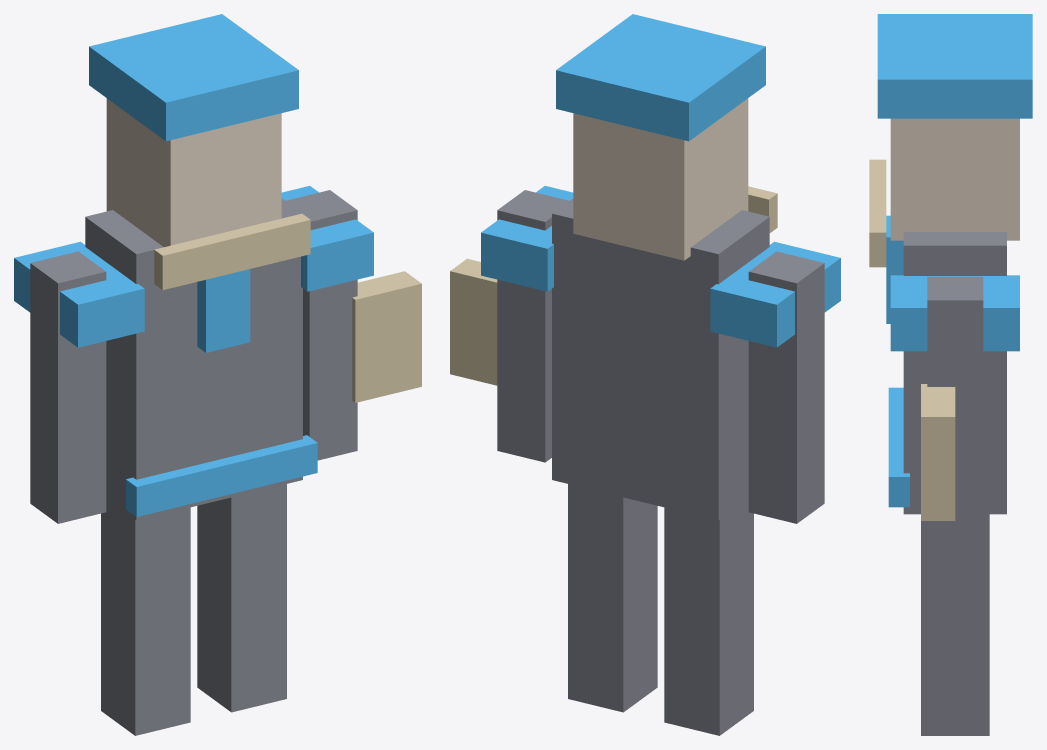
Rendered from 09_kael_glassroot_engineer_at_emergency.glb.
3 renders of one model, left to right at view 1: azimuth 30°, elevation 25°; view 2: azimuth 150°, elevation 25°; view 3: azimuth 270°, elevation 25°, orthographic.
Visible parts, largest first — view 1: Kael Glassroot, Engineer at Emergency; view 2: Kael Glassroot, Engineer at Emergency; view 3: Kael Glassroot, Engineer at Emergency.
Boxes of the visible parts, x1=… form: Kael Glassroot, Engineer at Emergency: x1=14, y1=14, x2=421, y2=735; Kael Glassroot, Engineer at Emergency: x1=450, y1=14, x2=840, y2=735; Kael Glassroot, Engineer at Emergency: x1=869, y1=14, x2=1032, y2=735.
Size of the model in its own units: 0.9075 by 1.55 by 0.3537.
